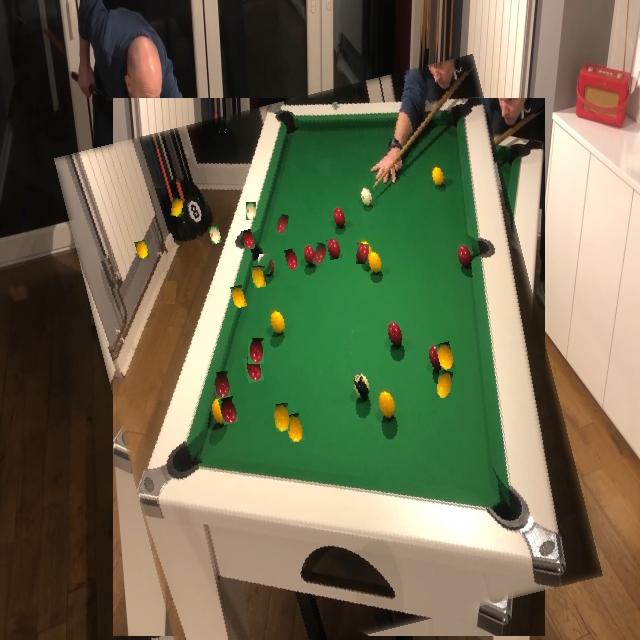Ball: (293, 380, 310, 408), (213, 372, 230, 398), (437, 371, 453, 398), (274, 404, 289, 432), (248, 338, 264, 364), (360, 300, 375, 324), (163, 281, 177, 304), (252, 266, 266, 288), (313, 243, 326, 265), (258, 254, 271, 274), (357, 243, 369, 264), (276, 214, 288, 235), (170, 199, 182, 217), (246, 202, 256, 220)
Billiard table: (83, 75, 574, 640)
